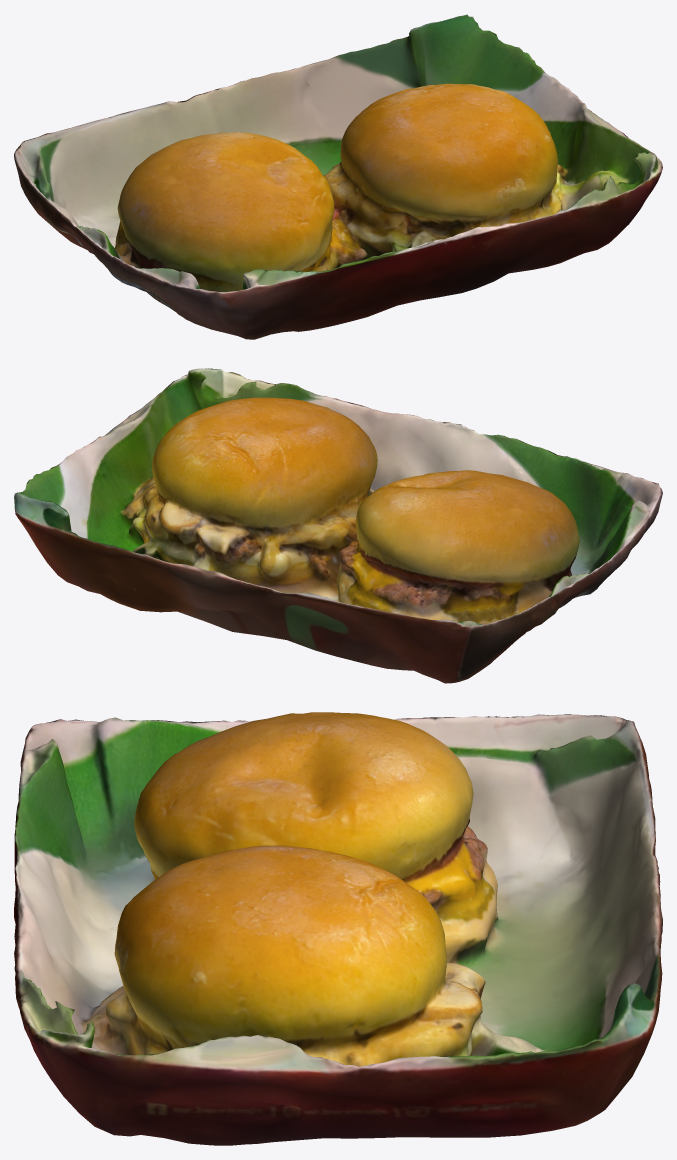
File: Mushroom_And_Mr_Smokey(Burgers_Category)_1757460015027.glb
3 renders of one model, top to bottom at view 1: azimuth 30°, elevation 25°; view 2: azimuth 150°, elevation 25°; view 3: azimuth 270°, elevation 25°, orthographic. The views are drawn at different scales.
Visible parts, largest first — view 1: 3D_Model; view 2: 3D_Model; view 3: 3D_Model.
Part boxes in pixels (x1=…): 3D_Model: x1=14, y1=14, x2=662, y2=339; 3D_Model: x1=14, y1=368, x2=662, y2=683; 3D_Model: x1=14, y1=712, x2=662, y2=1145.
Size of the model in its own units: 0.2496 by 0.0655 by 0.1855.
1 material, 1 textured.
